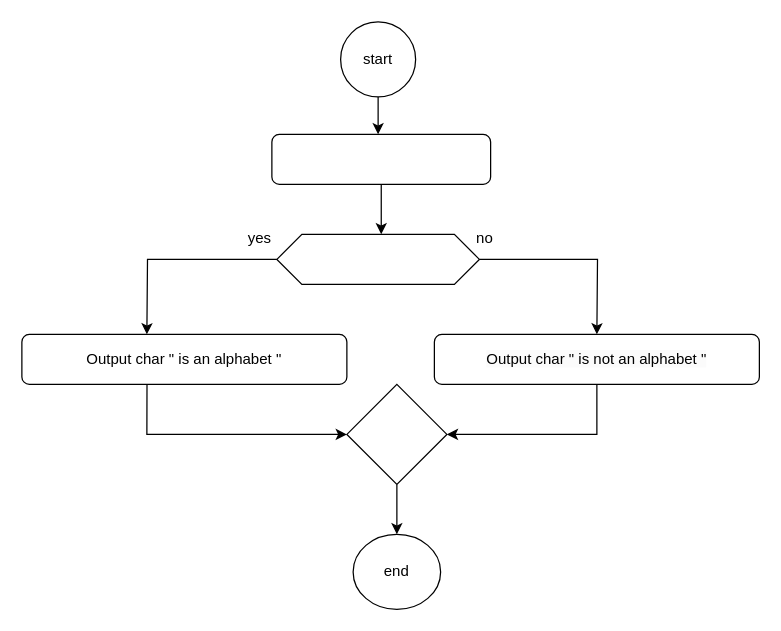
This 781x631 diagram has some shape labels left out. Each missing label, with the centre of its shape:
"char.isalpha()" belongs at (x=377, y=258).
"Input a character (char)" belongs at (x=381, y=158).
